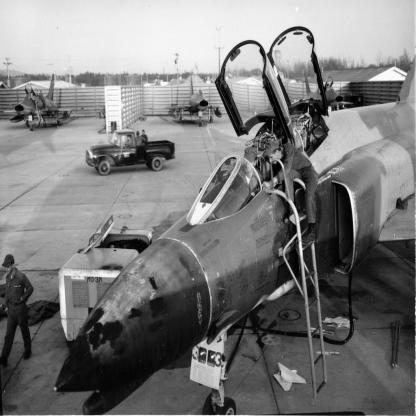truck: (78, 122, 182, 183)
